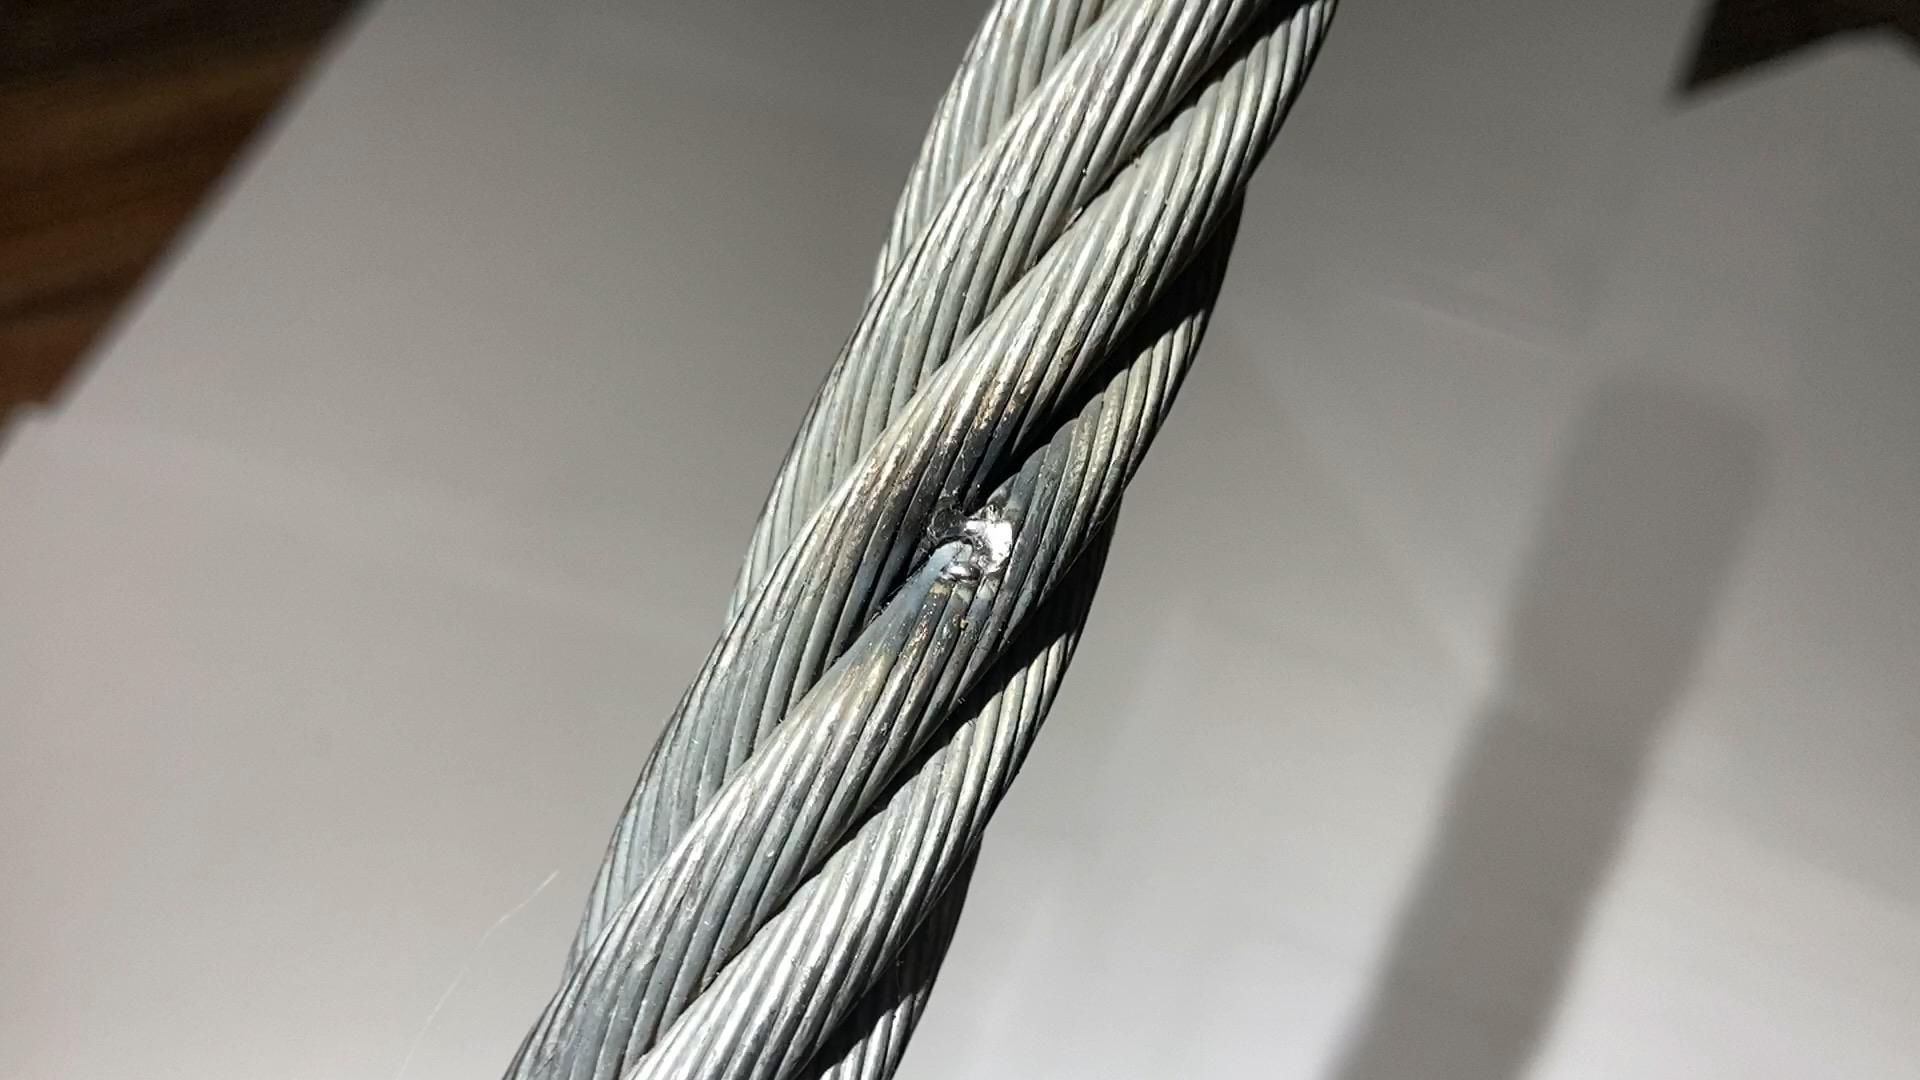thunderbolt: (901, 450, 1017, 611)
